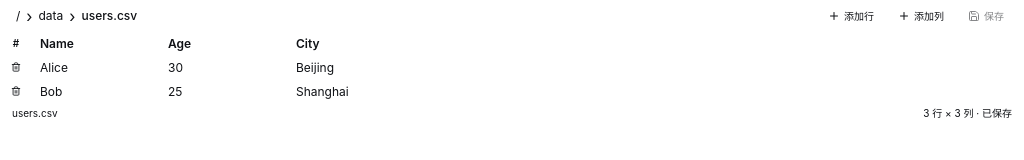
CsvEditor › adds a new empty row when clicking the add row button
The width and height of the screenshot is (1024, 160).
Expected: the 4th field showing "Alice" is shown, [32, 56, 160, 80]
Click "添加行"
Click the button "添加行" at (851, 16), box [820, 6, 882, 26]
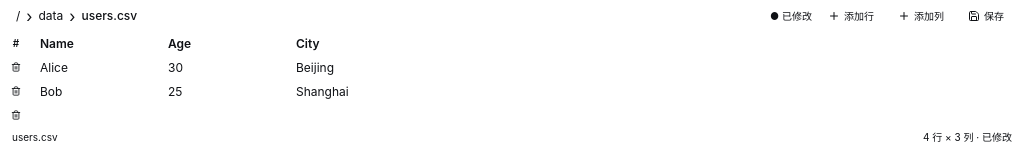
Now the number of fields is 12
